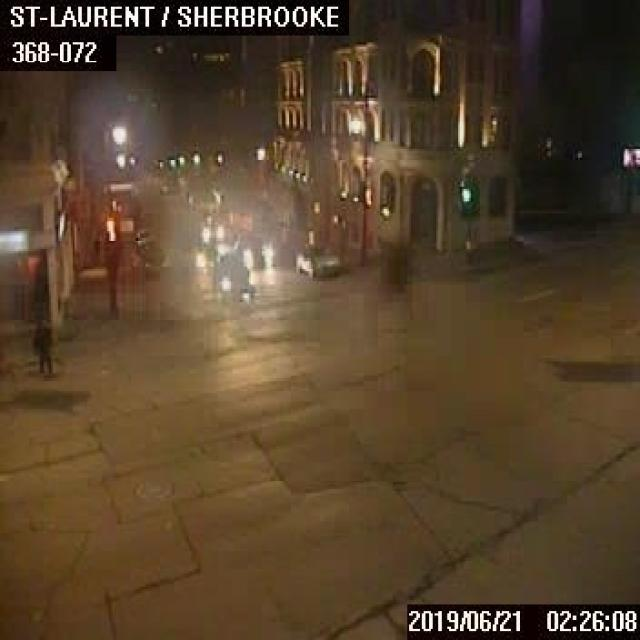pedestrian: (32, 320, 51, 370)
vehicle: (212, 256, 253, 300), (295, 242, 339, 276), (232, 230, 272, 264), (199, 214, 223, 241)
